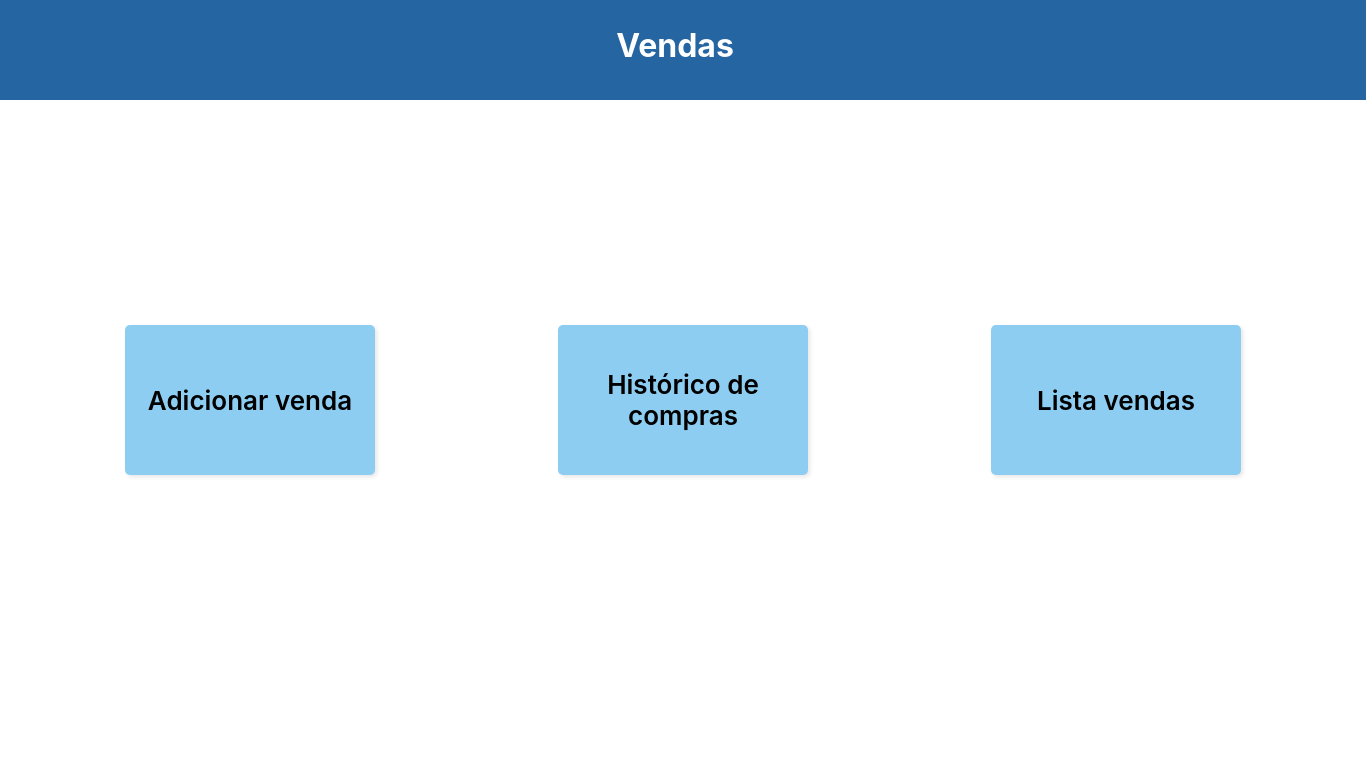
Scenario: Visualizar Venda › Deve exibir erro ao buscar um cpf de um cliente inexistente
Note: Clique no penúltimo botão
Click the button with class "style-Botao" showing "Histórico de compras" at (683, 400), box top-left (558, 325), bottom-right (808, 475)
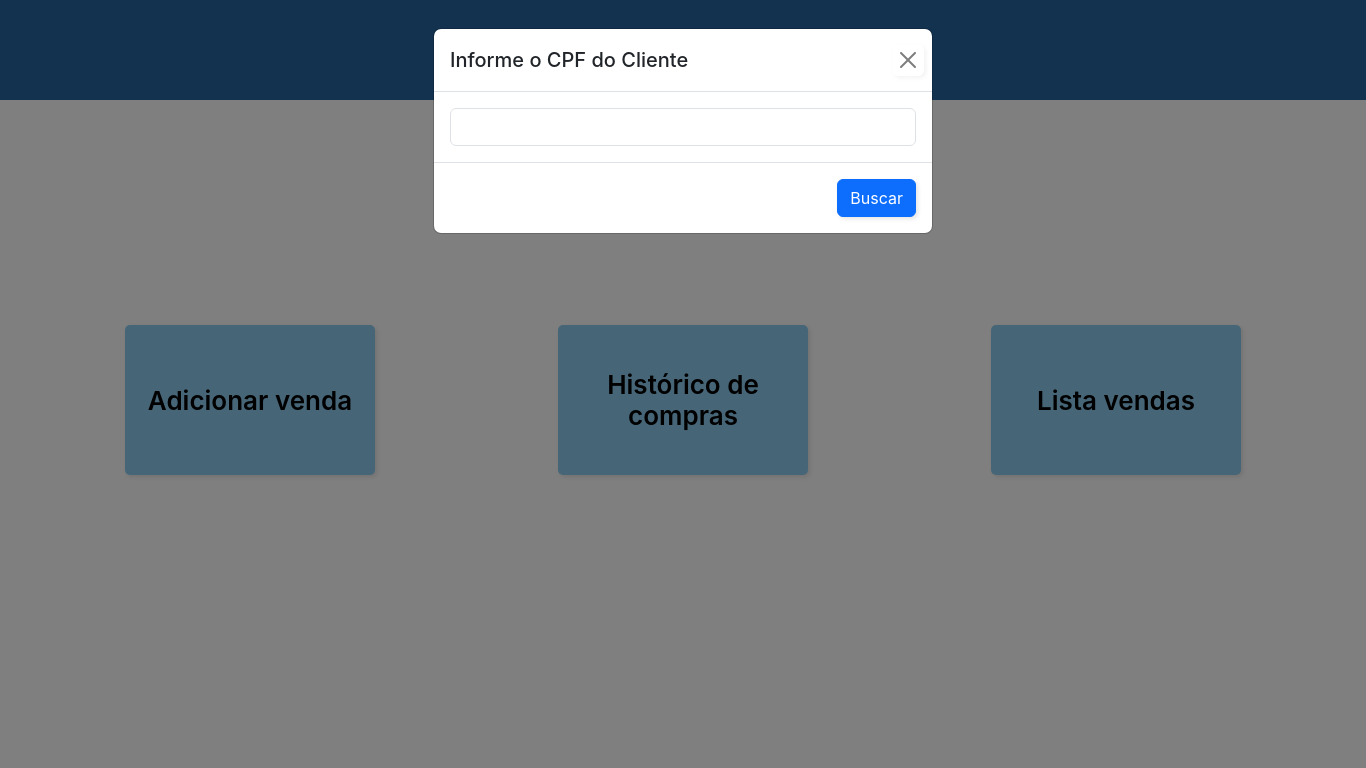
Expected: the element with class "modal-content" is shown, top-left (433, 28), bottom-right (933, 234)
Note: Preencha o campo do CPF e aguarde
Type "1" into the field with id "cpfCliente" at (683, 127), box top-left (450, 108), bottom-right (916, 146)
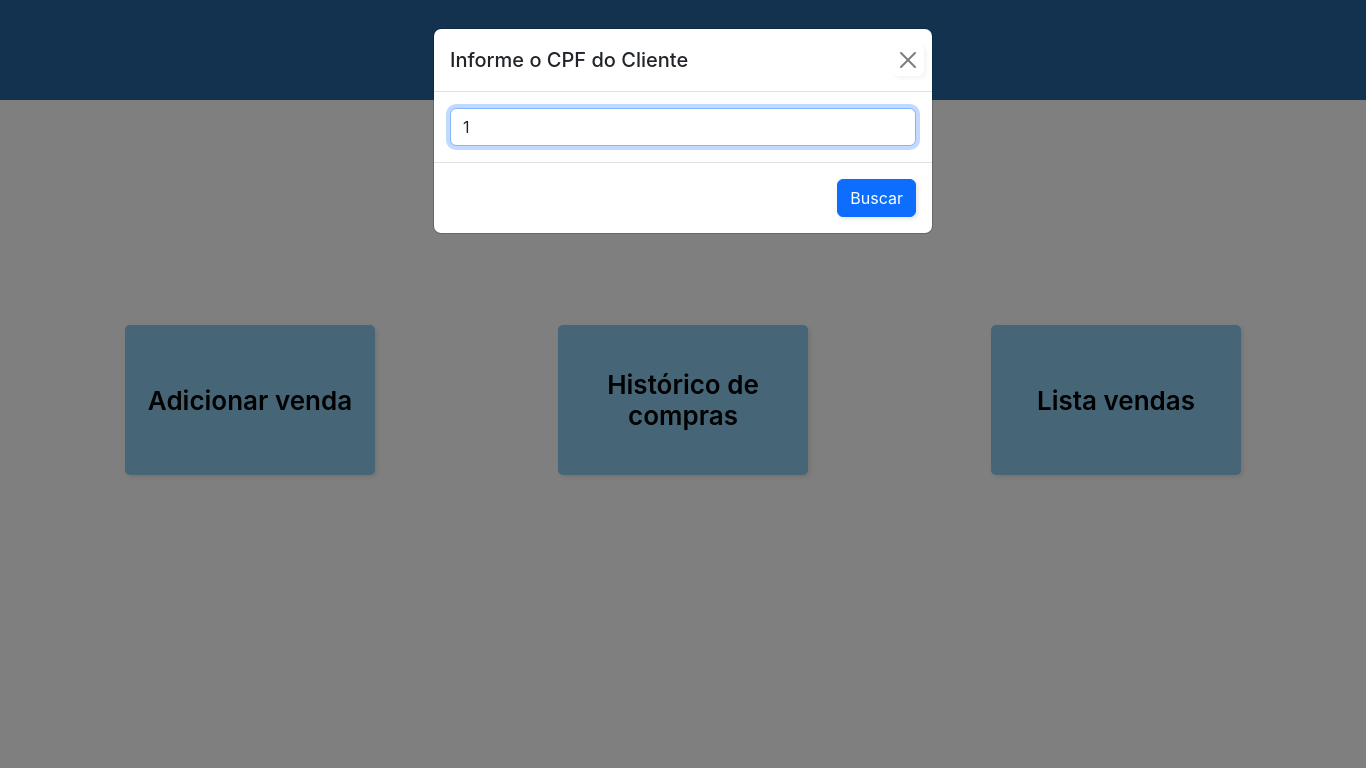
Note: Clique no botão de busca
Click the button "Buscar" at (877, 198), box top-left (837, 179), bottom-right (916, 217)
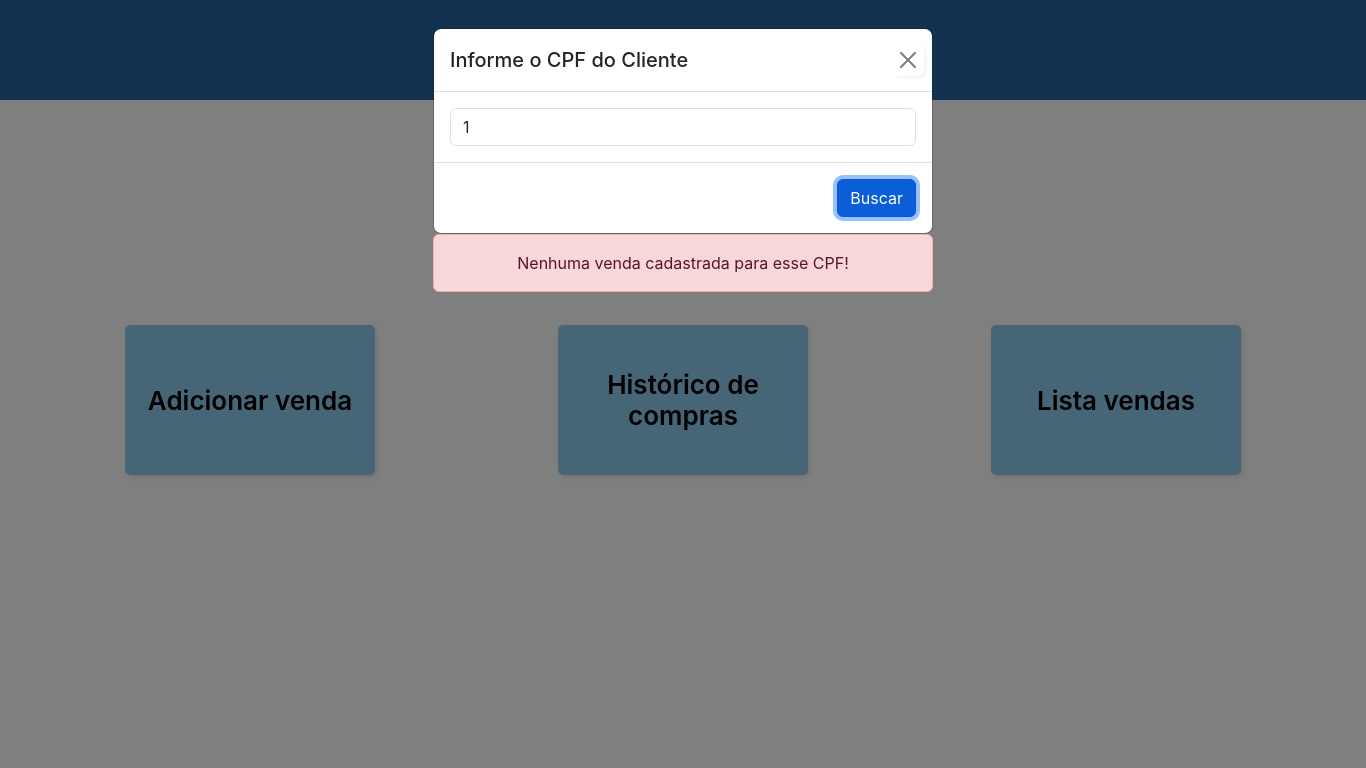
Expected: the message "Nenhuma venda cadastrada para esse CPF!" is shown, top-left (433, 234), bottom-right (933, 292)
